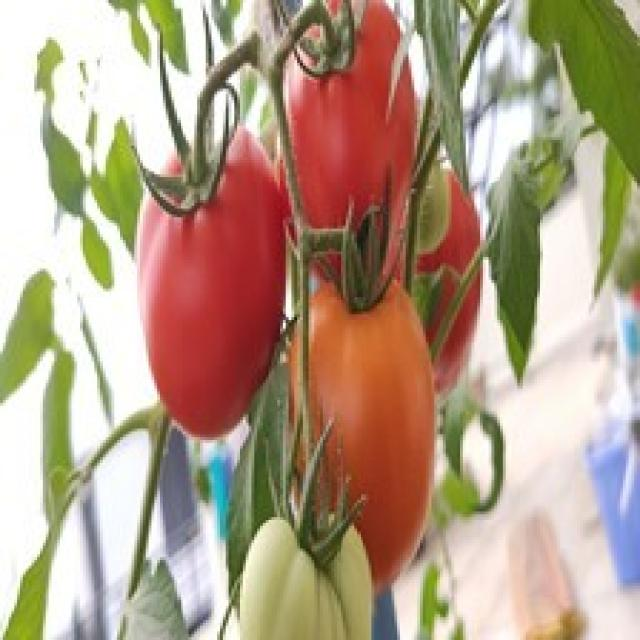tomato: (140, 129, 288, 438)
